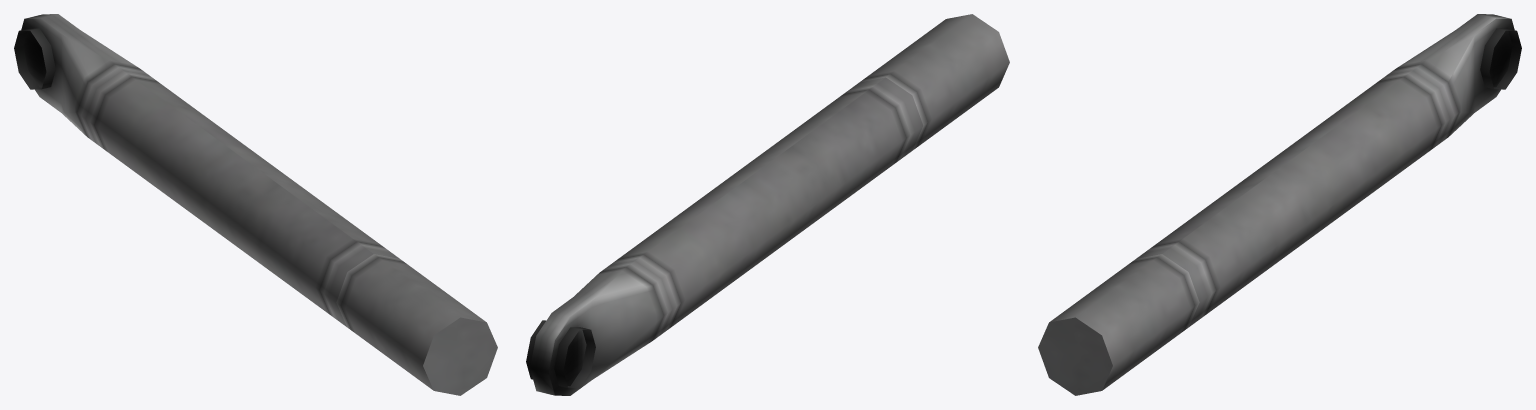
File: ls1_extended.obj
The picture shows the model from 3 angles, left to right: view 1: azimuth 30°, elevation 25°; view 2: azimuth 150°, elevation 25°; view 3: azimuth 330°, elevation 25°; orthographic projection.
Visible parts, largest first — view 1: s2; view 2: s2; view 3: s2.
Boxes of the visible parts, x1,y1,x2,y2 form: s2: (14,14,497,395); s2: (526,14,1009,395); s2: (1038,14,1521,395).
Size of the model in its own units: 0.05 by 0.05 by 0.5.
1 material, 1 textured.
